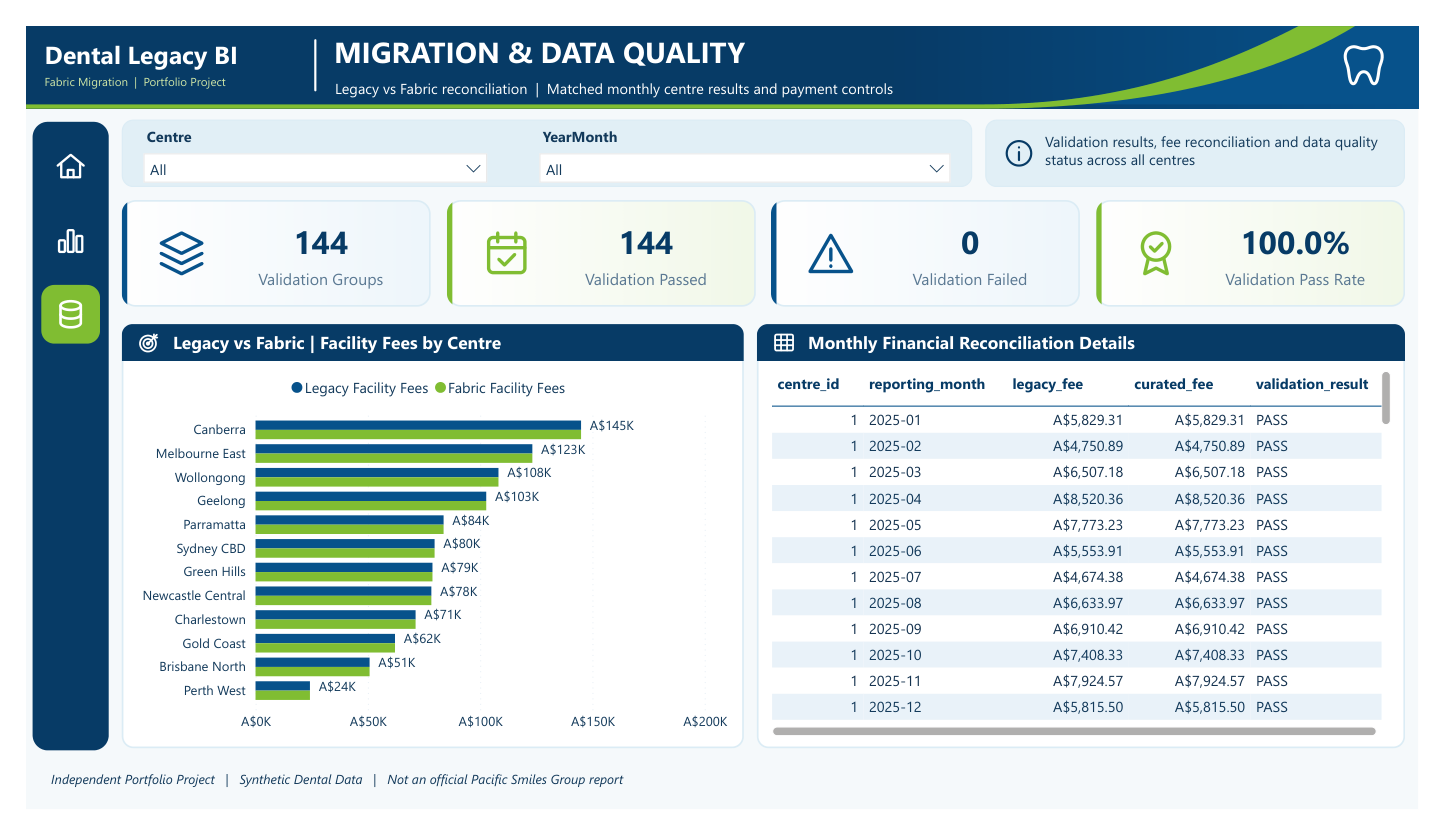

Layout of this report page (visuals, bound fields, positions):
{"tool":"powerbi","page":{"name":"Migration & Data Quality","canvas":[1280,720],"ordinal":2},"visuals":[{"type":"image","box":[0,0,1280,76],"z":0},{"type":"image","box":[6,88,70,578],"z":1000},{"type":"image","box":[14,102,54,54],"z":2000},{"type":"image","box":[14,170,54,54],"z":3000},{"type":"image","box":[14,238,54,54],"z":4000},{"type":"image","box":[88,86,782,62],"z":5000},{"type":"image","box":[882,86,386,62],"z":6000},{"type":"image","box":[88,160,284,98],"z":7000},{"type":"image","box":[387,160,284,98],"z":8000},{"type":"image","box":[685,160,284,98],"z":9000},{"type":"image","box":[984,160,284,98],"z":10000},{"type":"image","box":[88,274,572,390],"z":11000},{"type":"image","box":[672,274,596,390],"z":12000},{"type":"textbox","box":[12,6,248,60],"z":13000},{"type":"textbox","box":[278,0,640,46],"z":14000},{"type":"textbox","box":[279,43,700,29],"z":15000},{"type":"textbox","box":[932,92,330,52],"z":16000},{"type":"textbox","box":[18,678,900,30],"z":17000},{"type":"textbox","box":[130,275,516,32],"z":18000},{"type":"textbox","box":[714,275,540,32],"z":19000},{"type":"card","title":"Validation Groups","fields":{"Values":["legacy_centres.Validation Groups"]},"box":[178,167,186,84],"z":20000},{"type":"card","title":"Validation Passed","fields":{"Values":["legacy_centres.Validation Passed"]},"box":[477,167,186,84],"z":21000},{"type":"card","title":"Validation Failed","fields":{"Values":["legacy_centres.Validation Failed"]},"box":[775,167,186,84],"z":22000},{"type":"card","title":"Validation Pass Rate","fields":{"Values":["legacy_centres.Validation Pass Rate"]},"box":[1074,167,186,84],"z":23000},{"type":"slicer","title":"Centre Name","fields":{"Values":["legacy_centres.centre_name"]},"box":[98,88,336,58],"z":24000},{"type":"slicer","fields":{"Values":["validation_financial_reconciliation.reporting_month"]},"box":[462,88,398,58],"z":25000},{"type":"clusteredBarChart","title":"Legacy vs Fabric | Facility Fees by Centre","fields":{"Category":["legacy_centres.centre_name"],"Y":["DimDate.Legacy Facility Fees","DimDate.Fabric Facility Fees"]},"box":[94,312,556,346],"z":26000},{"type":"tableEx","title":"Monthly Financial Reconciliation Details","fields":{"Values":["validation_financial_reconciliation.centre_id","validation_financial_reconciliation.reporting_month","validation_financial_reconciliation.legacy_fee","validation_financial_reconciliation.curated_fee","validation_financial_reconciliation.validation_result"]},"box":[680,312,580,346],"z":27000},{"type":"actionButton","box":[14,102,54,54],"z":28000},{"type":"actionButton","box":[14,170,54,54],"z":29000},{"type":"actionButton","box":[14,238,54,54],"z":30000}]}

Visuals, with their boxes on the page's 1280x720 design canvas (x1, y1, x2, y2). These are canvas units, not pixel positions in the 1445x836 screenshot, which may show the page scaled, cropped or inside an application window:
image: 0,0,1280,76
image: 6,88,76,666
image: 14,102,68,156
image: 14,170,68,224
image: 14,238,68,292
image: 88,86,870,148
image: 882,86,1268,148
image: 88,160,372,258
image: 387,160,671,258
image: 685,160,969,258
image: 984,160,1268,258
image: 88,274,660,664
image: 672,274,1268,664
textbox: 12,6,260,66
textbox: 278,0,918,46
textbox: 279,43,979,72
textbox: 932,92,1262,144
textbox: 18,678,918,708
textbox: 130,275,646,307
textbox: 714,275,1254,307
"Validation Groups" card: 178,167,364,251
"Validation Passed" card: 477,167,663,251
"Validation Failed" card: 775,167,961,251
"Validation Pass Rate" card: 1074,167,1260,251
"Centre Name" slicer: 98,88,434,146
slicer - validation_financial_reconciliation.reporting_month: 462,88,860,146
"Legacy vs Fabric | Facility Fees by Centre" clusteredBarChart: 94,312,650,658
"Monthly Financial Reconciliation Details" tableEx: 680,312,1260,658
actionButton: 14,102,68,156
actionButton: 14,170,68,224
actionButton: 14,238,68,292
